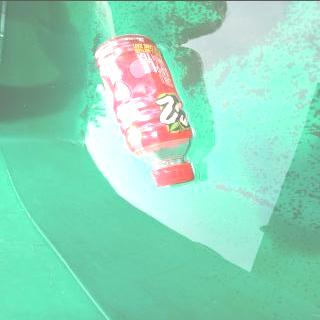bottle: (92, 32, 196, 186)
